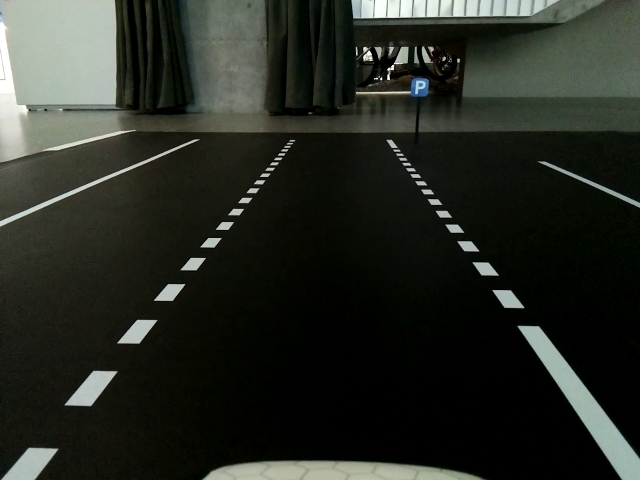park: (411, 79, 428, 96)
